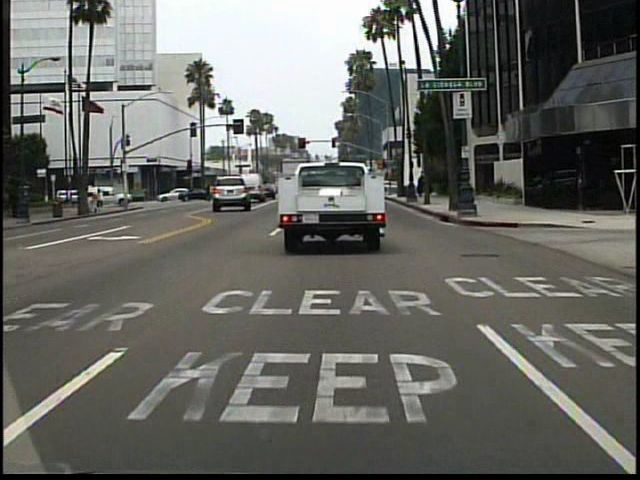person: (96, 187, 109, 214)
